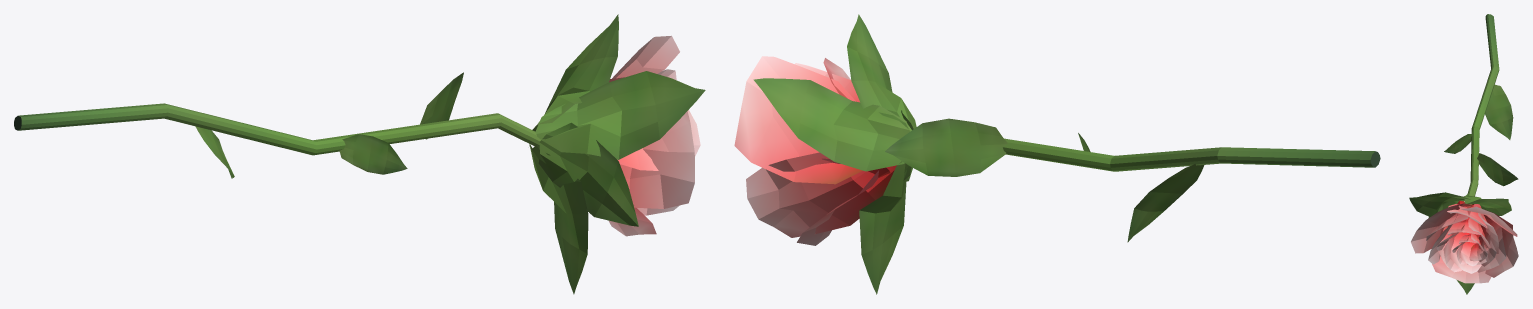
The model's file is PINK ROSE.fbx.
3 renders of one model, left to right at view 1: azimuth 30°, elevation 25°; view 2: azimuth 150°, elevation 25°; view 3: azimuth 270°, elevation 25°, orthographic. The views are drawn at different scales.
Parts seen in each view (by area): view 1: PINK ROSE; view 2: PINK ROSE; view 3: PINK ROSE.
Boxes of the visible parts, left/top/right/bottom form: PINK ROSE: left=14, top=14, right=705, bottom=294; PINK ROSE: left=734, top=14, right=1380, bottom=294; PINK ROSE: left=1409, top=14, right=1518, bottom=294.
Bounding box in the file's own units: 29.53 × 12.84 × 8.57.
